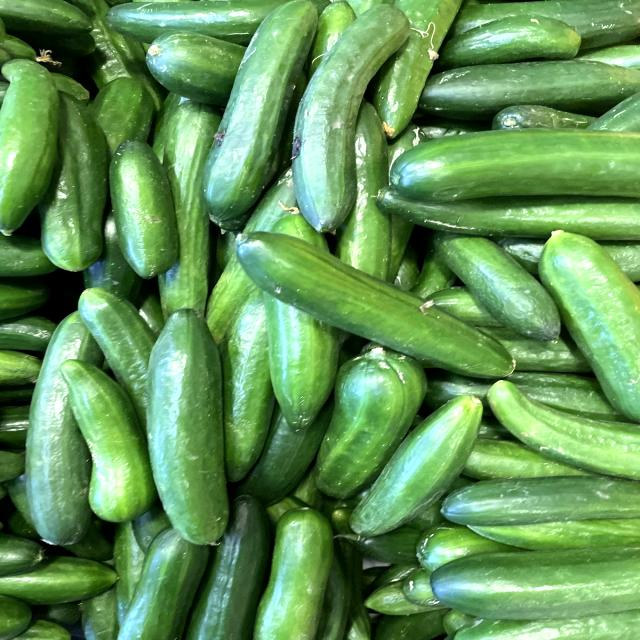cucumber: (223, 217, 525, 382), (281, 2, 432, 232), (124, 299, 253, 552), (333, 392, 487, 544)
